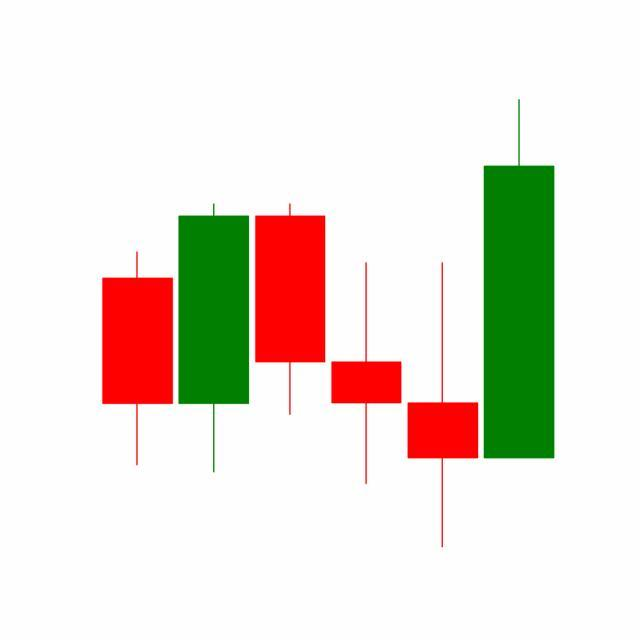Spinning Top: (404, 260, 482, 552)
